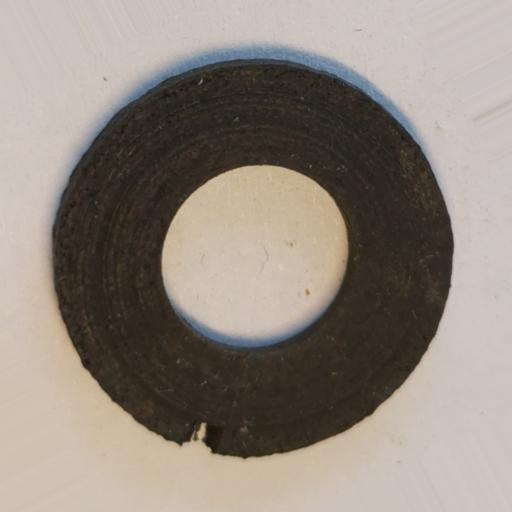defect: (179, 416, 224, 454)
